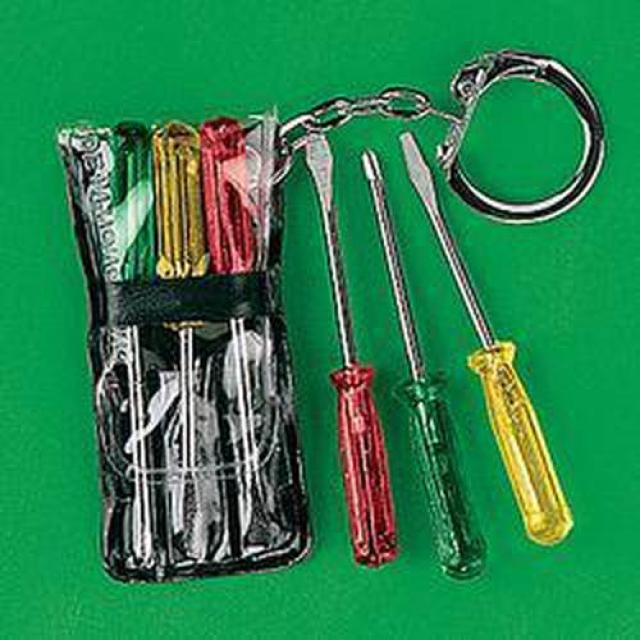screw driver: (396, 122, 617, 584), (349, 137, 495, 584), (289, 124, 406, 566)
